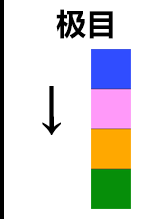arrow: (36, 77, 68, 145)
